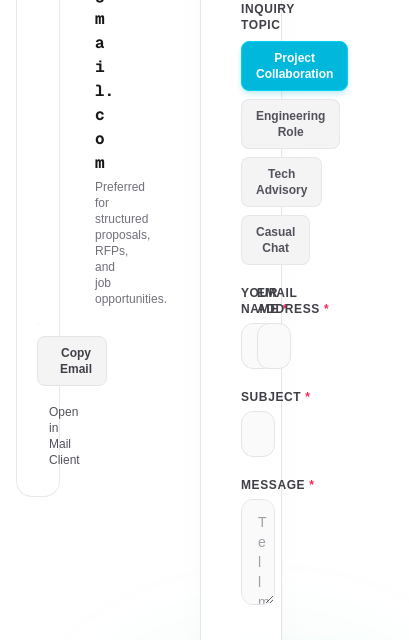
it: Contact Component › handles one-click email copy with clipboard API and visual feedback
(page scrolled)
Expected: the text "Copy Email" is shown, [60,344,92,376]
Click the button with test id "copy-email-btn" at (72, 360), box [37,336,107,386]
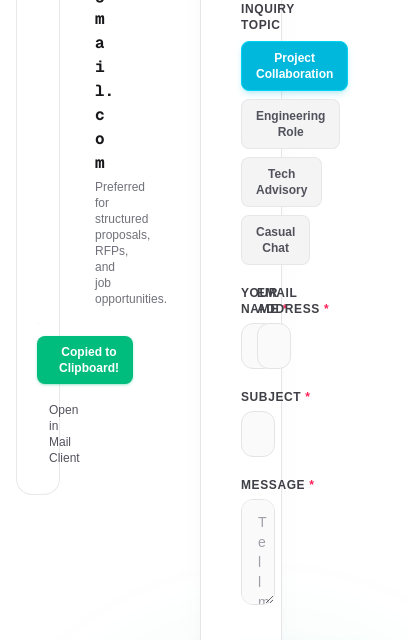
Expected: the text "Copied to Clipboard!" is shown, [59,344,119,376]
